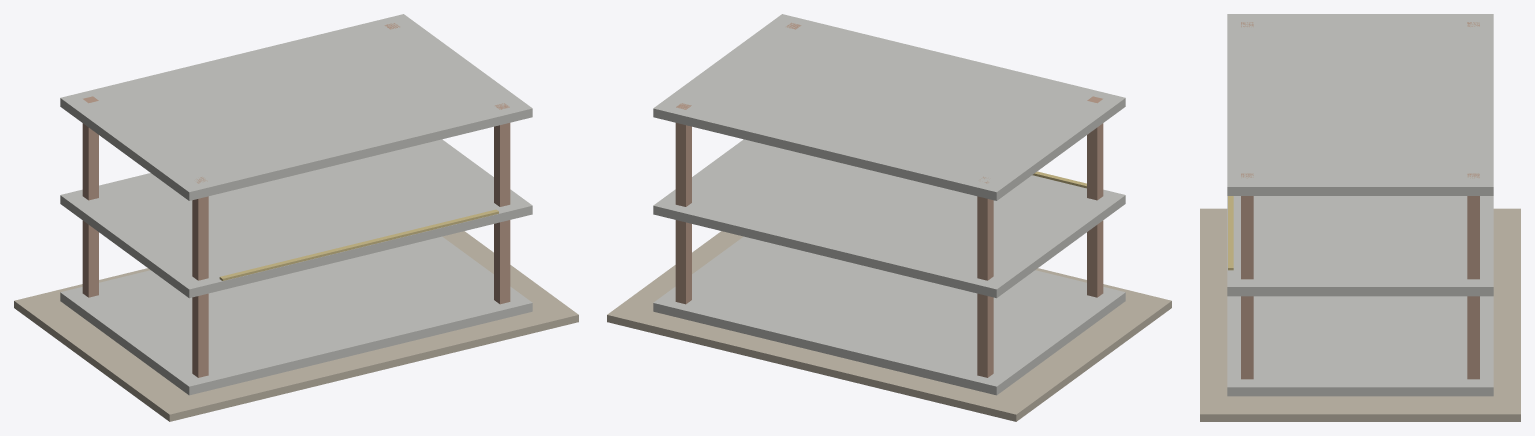
The model's file is construction_frame_3x2.glb.
The picture shows the model from 3 angles, left to right: view 1: azimuth 30°, elevation 25°; view 2: azimuth 150°, elevation 25°; view 3: azimuth 270°, elevation 25°; orthographic projection. The views are drawn at different scales.
Parts seen in each view (by area): view 1: construction_frame_3x2; view 2: construction_frame_3x2; view 3: construction_frame_3x2.
Boxes of the visible parts, x1=… form: construction_frame_3x2: x1=14, y1=14, x2=578, y2=421; construction_frame_3x2: x1=607, y1=14, x2=1171, y2=421; construction_frame_3x2: x1=1200, y1=14, x2=1520, y2=421.
Size of the model in its own units: 5.86 by 2.9 by 3.86.
